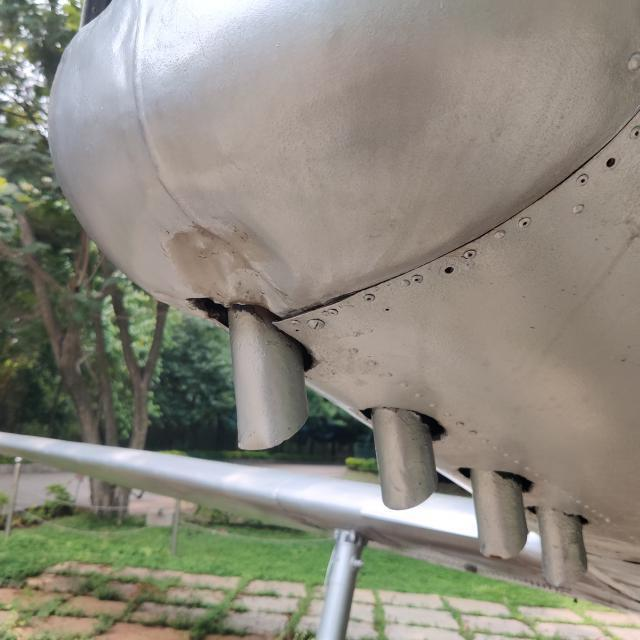Dent: (143, 196, 314, 331)
